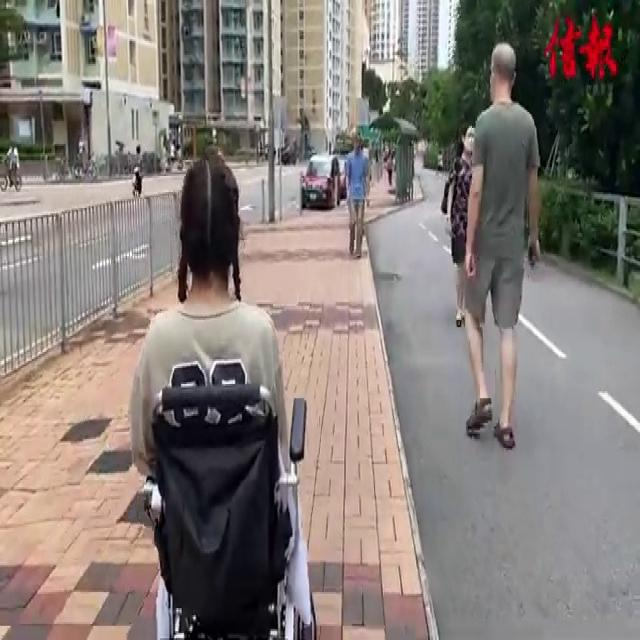wheelchairs: (139, 382, 336, 640)
